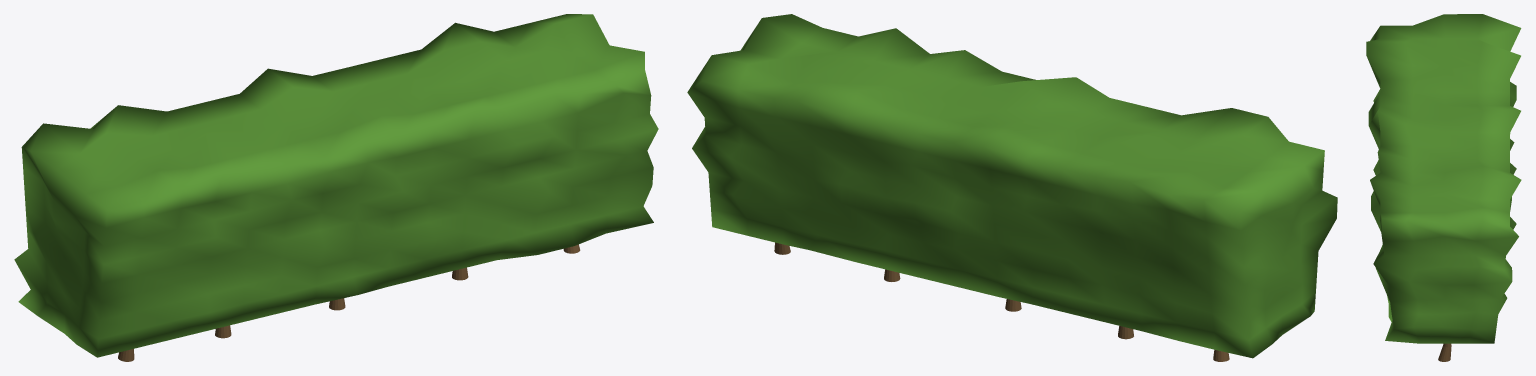
File: shrubFence.fbx
3 renders of one model, left to right at view 1: azimuth 30°, elevation 25°; view 2: azimuth 150°, elevation 25°; view 3: azimuth 270°, elevation 25°, orthographic. The views are drawn at different scales.
Visible parts, largest first — view 1: Shrub Fence; view 2: Shrub Fence; view 3: Shrub Fence.
Part boxes in pixels (left/top/right/bottom): Shrub Fence: left=14, top=14, right=658, bottom=361; Shrub Fence: left=687, top=14, right=1337, bottom=361; Shrub Fence: left=1366, top=14, right=1521, bottom=361.
Size of the model in its own units: 1192 by 376 by 417.
